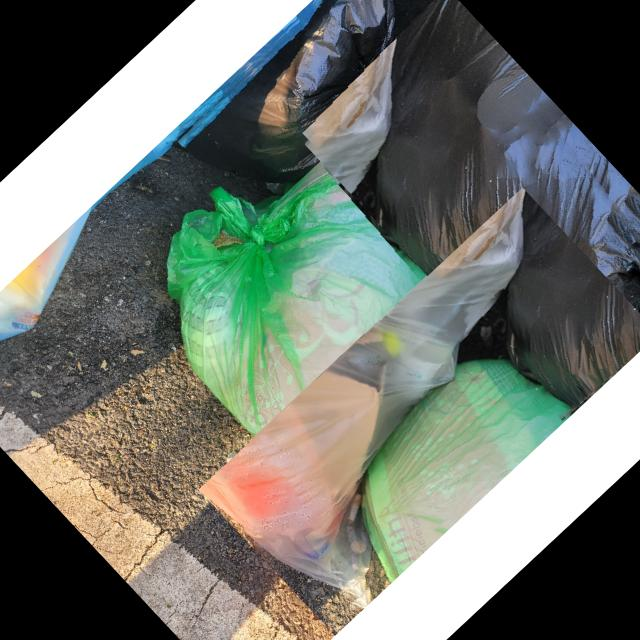general_trashbag: (167, 147, 473, 471)
other_trashbag: (199, 188, 524, 597), (376, 0, 640, 383), (185, 0, 393, 182)
